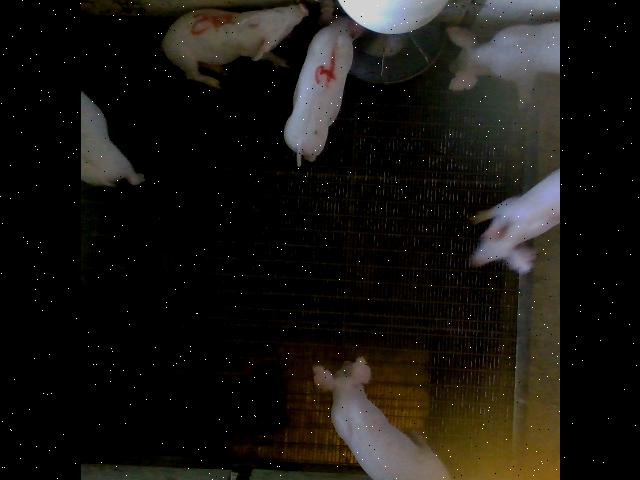pig-4: (282, 1, 362, 166)
pig-5: (160, 4, 307, 89)
